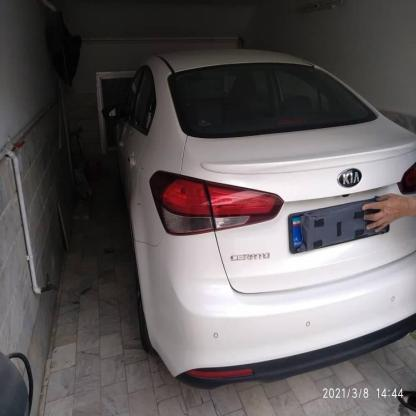Car: (98, 60, 416, 375)
